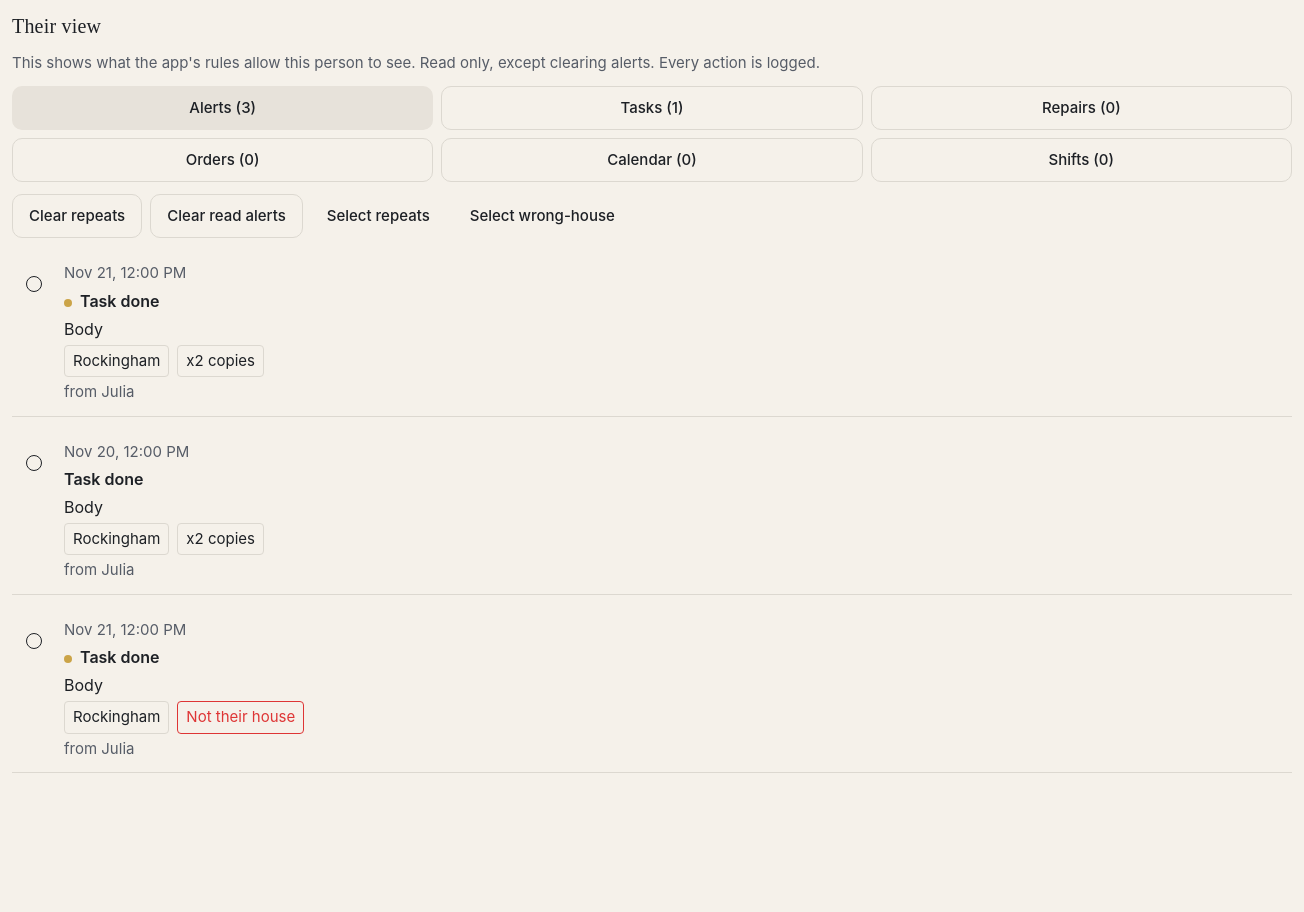
Scenario: Their view › supports manual multi-selection and deselection
Expected: the tab "Alerts (3)" is shown, left=12, top=86, right=433, bottom=130
Click the checkbox named "Select alert new": (34, 284) left=26, top=276, right=42, bottom=292
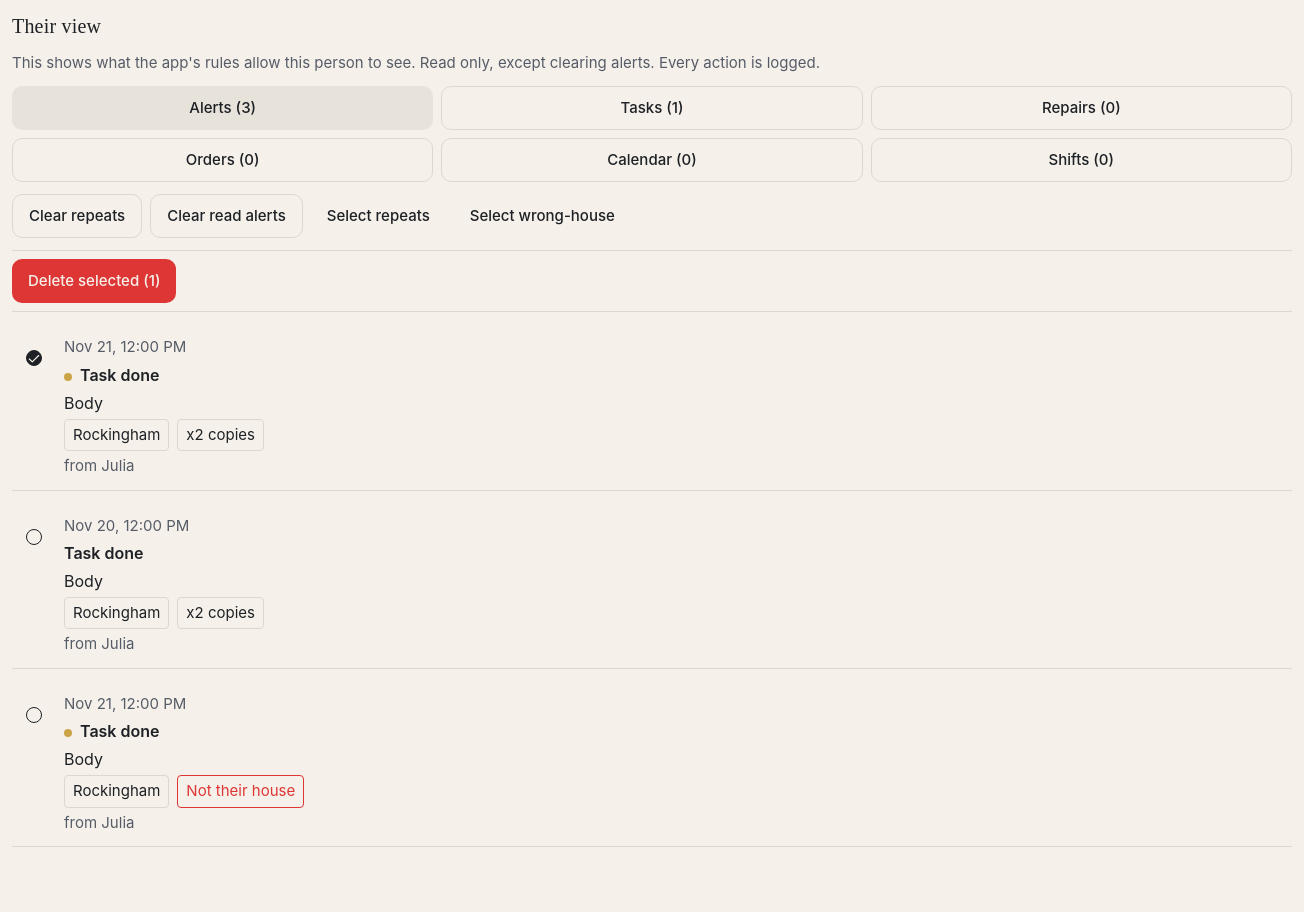
Click the checkbox named "Select alert old": (34, 537) left=26, top=529, right=42, bottom=545
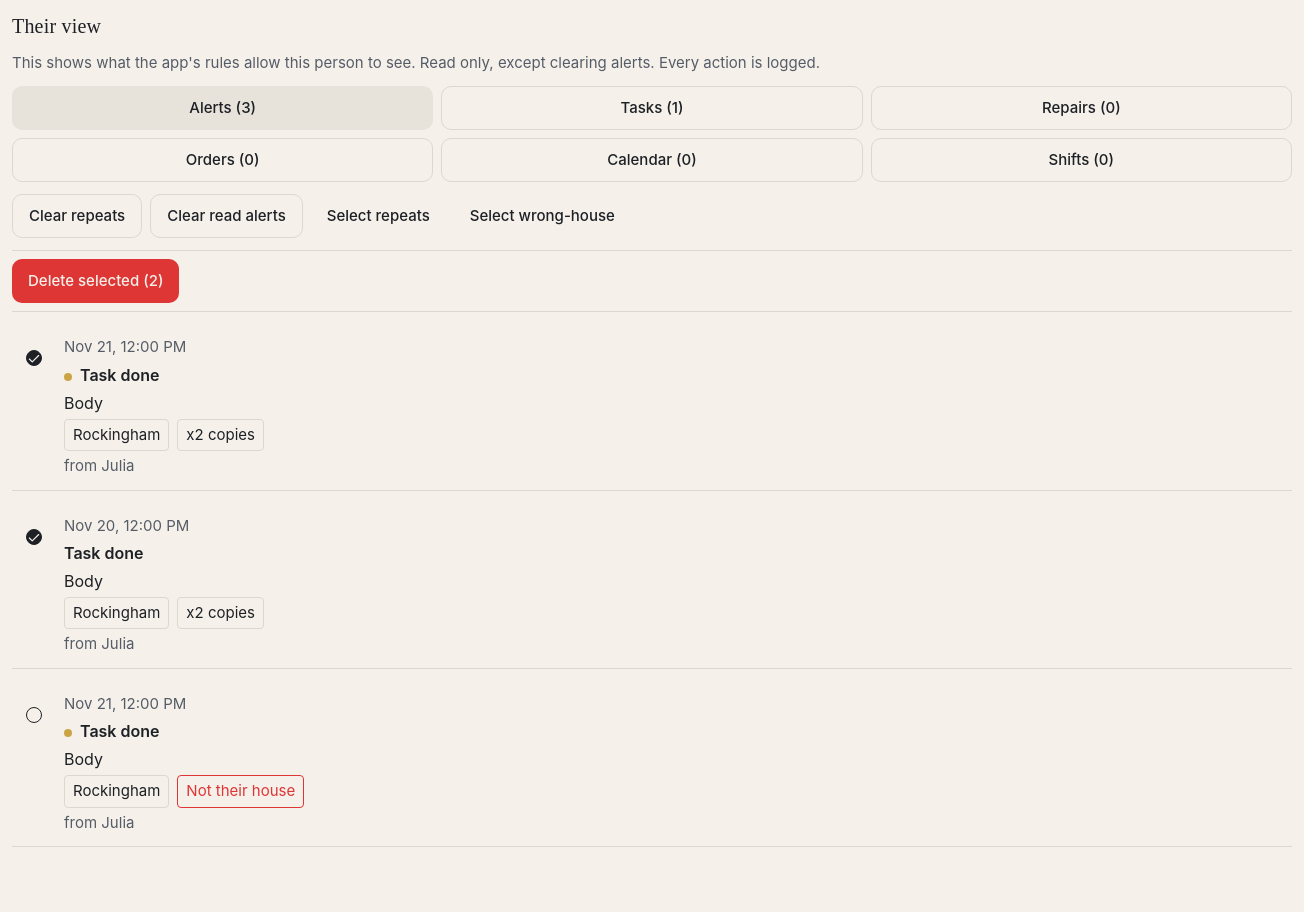
Expected: the button "Delete selected (2)" is shown, left=12, top=259, right=180, bottom=303
Click the checkbox named "Select alert new": (34, 358) left=26, top=350, right=42, bottom=366
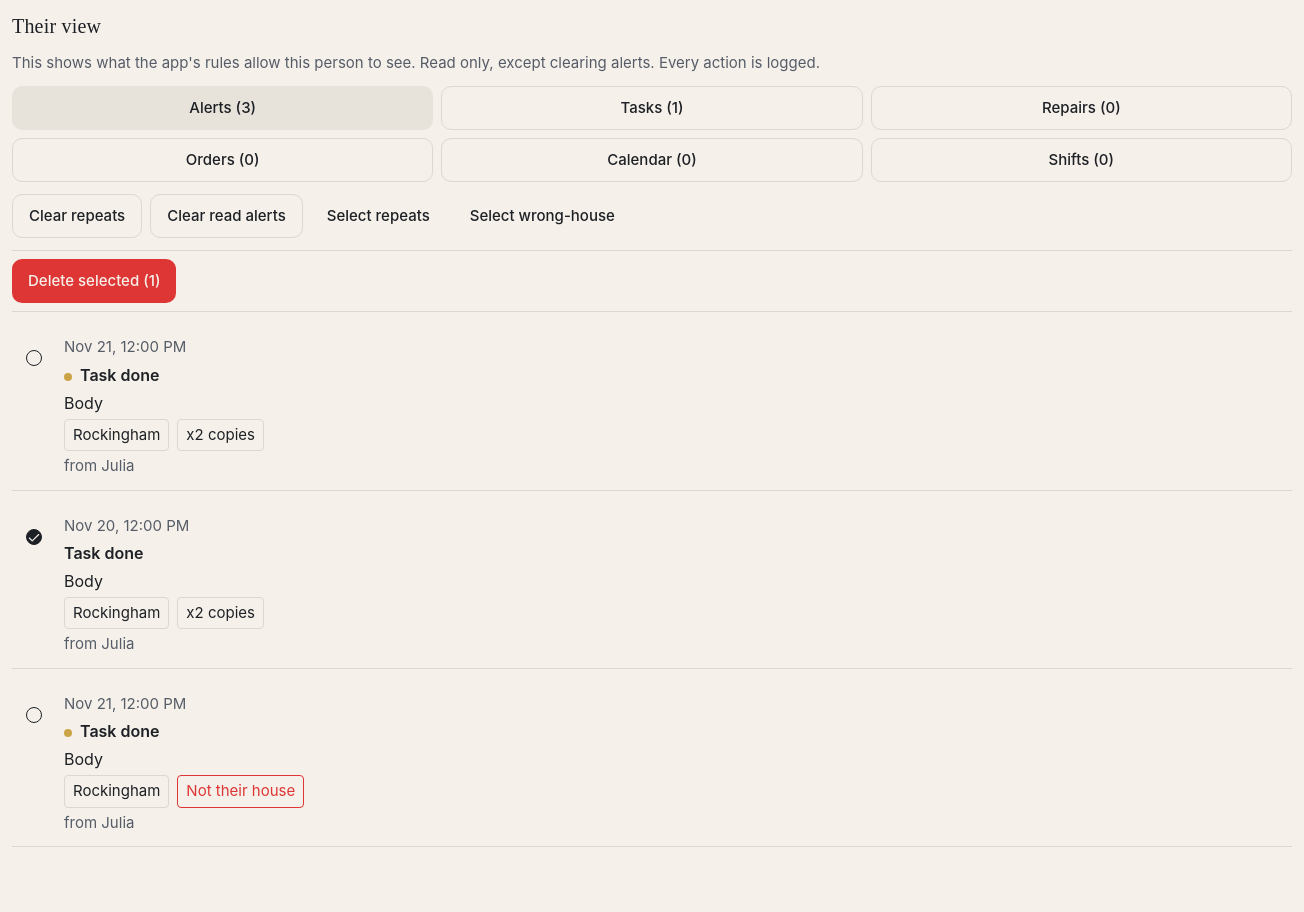
Expected: the button "Delete selected (1)" is shown, left=12, top=259, right=176, bottom=303
